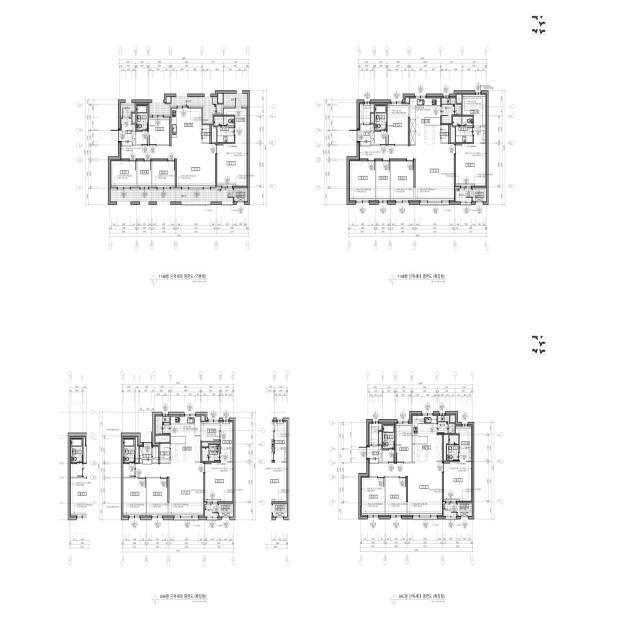space_balconi: (149, 97, 222, 125), (111, 188, 233, 202), (224, 93, 247, 107), (438, 416, 455, 433), (156, 416, 170, 434), (456, 189, 472, 202), (121, 103, 135, 117), (205, 504, 218, 517), (444, 504, 457, 516)
space_bedroom: (456, 127, 486, 186), (205, 449, 232, 501), (217, 144, 247, 186), (444, 462, 471, 501), (349, 161, 375, 200), (391, 161, 414, 200), (123, 478, 146, 516), (362, 478, 385, 515), (388, 104, 408, 144), (147, 478, 168, 516), (386, 478, 406, 515), (111, 161, 136, 187), (152, 161, 175, 187), (149, 118, 169, 144)
space_dressroom: (223, 108, 247, 144), (463, 95, 486, 126), (456, 426, 471, 447), (221, 422, 232, 448)
space_front: (121, 119, 135, 146), (358, 124, 374, 146), (370, 446, 382, 463), (140, 447, 152, 464)
space_kitchen: (410, 98, 440, 145), (412, 416, 442, 462), (171, 416, 200, 462), (171, 108, 202, 145)
space_living_room: (359, 144, 454, 200), (121, 144, 215, 187), (370, 462, 442, 515), (136, 463, 203, 516)
space_other: (396, 424, 411, 462), (376, 161, 390, 200), (137, 161, 151, 187), (201, 422, 220, 441), (359, 104, 374, 123), (370, 424, 382, 445), (160, 444, 170, 463), (123, 464, 135, 477), (136, 132, 148, 145), (375, 132, 387, 145), (460, 448, 471, 461), (383, 450, 394, 462), (441, 125, 448, 143), (203, 125, 209, 143), (444, 435, 448, 461), (156, 436, 170, 443), (202, 442, 220, 447), (153, 447, 158, 463), (136, 437, 139, 463), (212, 125, 216, 143), (451, 125, 455, 143), (218, 94, 223, 103), (457, 94, 462, 103), (379, 432, 382, 444), (450, 415, 455, 422), (132, 114, 135, 123), (371, 114, 374, 123), (166, 97, 170, 103), (201, 416, 204, 421), (406, 98, 409, 103)
space_outdoor_room: (219, 504, 233, 517), (458, 503, 472, 516), (234, 188, 247, 202), (473, 188, 486, 202)
space_toilet: (442, 98, 462, 124), (214, 117, 234, 142), (453, 117, 473, 142), (136, 105, 148, 130), (202, 445, 220, 461), (123, 439, 135, 462), (447, 435, 458, 460), (375, 105, 386, 130), (383, 425, 394, 449)
